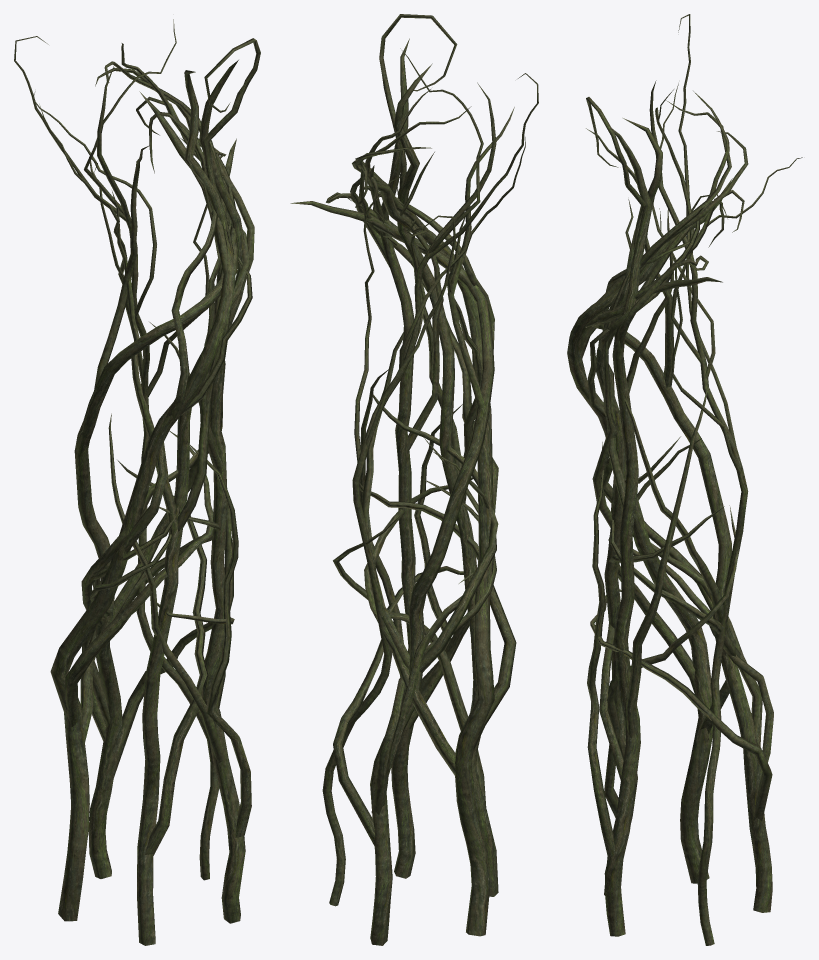
File: Tree_07_1_Liana_L1.fbx
3 views of the same model, side by side, from view 1: azimuth 30°, elevation 25°; view 2: azimuth 150°, elevation 25°; view 3: azimuth 270°, elevation 25° (orthographic). The views are drawn at different scales.
Parts seen in each view (by area): view 1: polySurface67; view 2: polySurface67; view 3: polySurface67.
Part boxes in pixels (x1,y1,x2,y2): polySurface67: [14, 19, 260, 945]; polySurface67: [290, 14, 538, 945]; polySurface67: [567, 14, 802, 945].
Size of the model in its own units: 706 by 2521 by 643.
